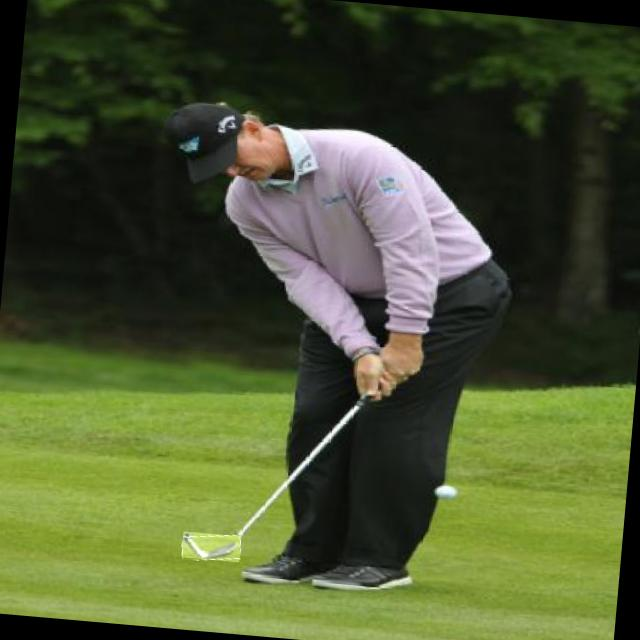club head: (181, 532, 241, 562)
